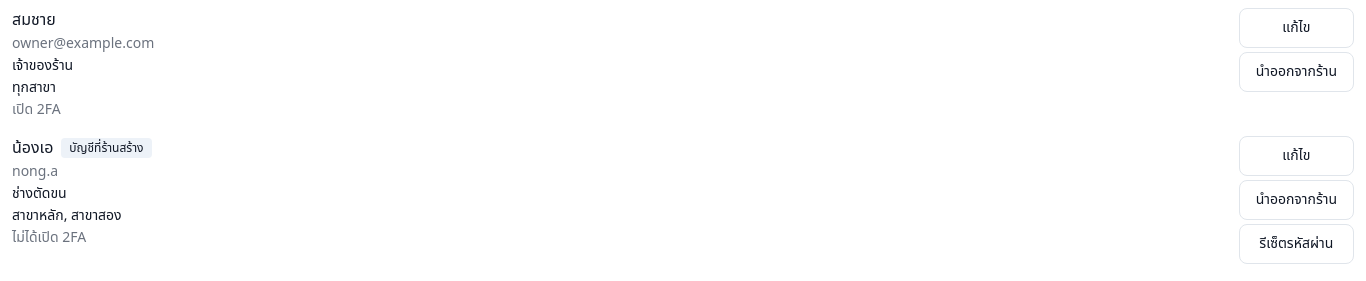
Test: remove (#contract-staff-remove, F09) › 204 → refetch the list
Expected: the text "น้องเอ" is shown, [12,136,53,160]
Click the button "นำออกจากร้าน" in the row of "ช่างตัดขน". click: (1296, 200)
box: [1239,180,1354,220]
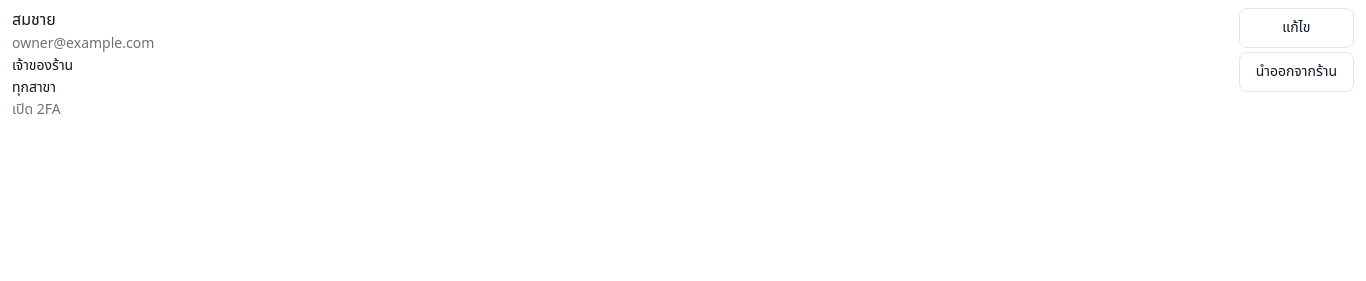
Result: the text "น้องเอ" is gone
